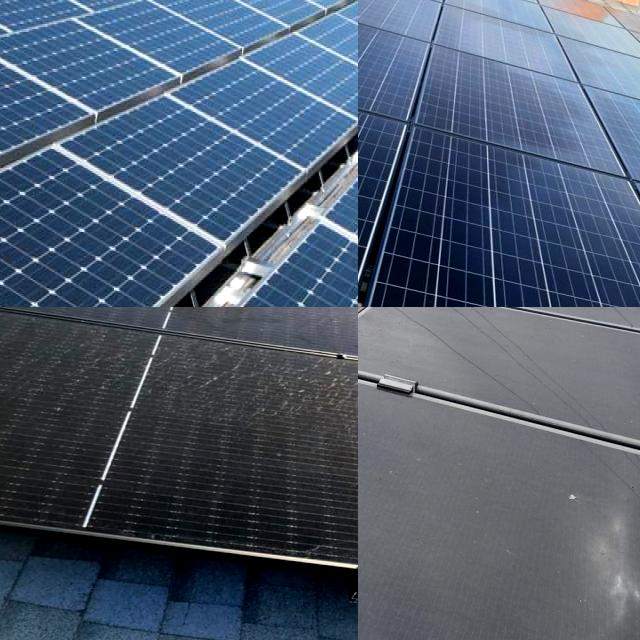crack: (28, 83, 316, 263), (380, 112, 640, 307), (393, 17, 640, 173), (173, 42, 358, 193), (358, 0, 530, 159), (246, 7, 358, 150), (578, 79, 640, 240), (358, 0, 492, 74), (292, 0, 358, 117), (358, 0, 501, 50)
dust: (164, 318, 358, 457), (537, 468, 640, 640), (0, 307, 154, 409), (358, 404, 413, 577), (200, 307, 358, 346)
